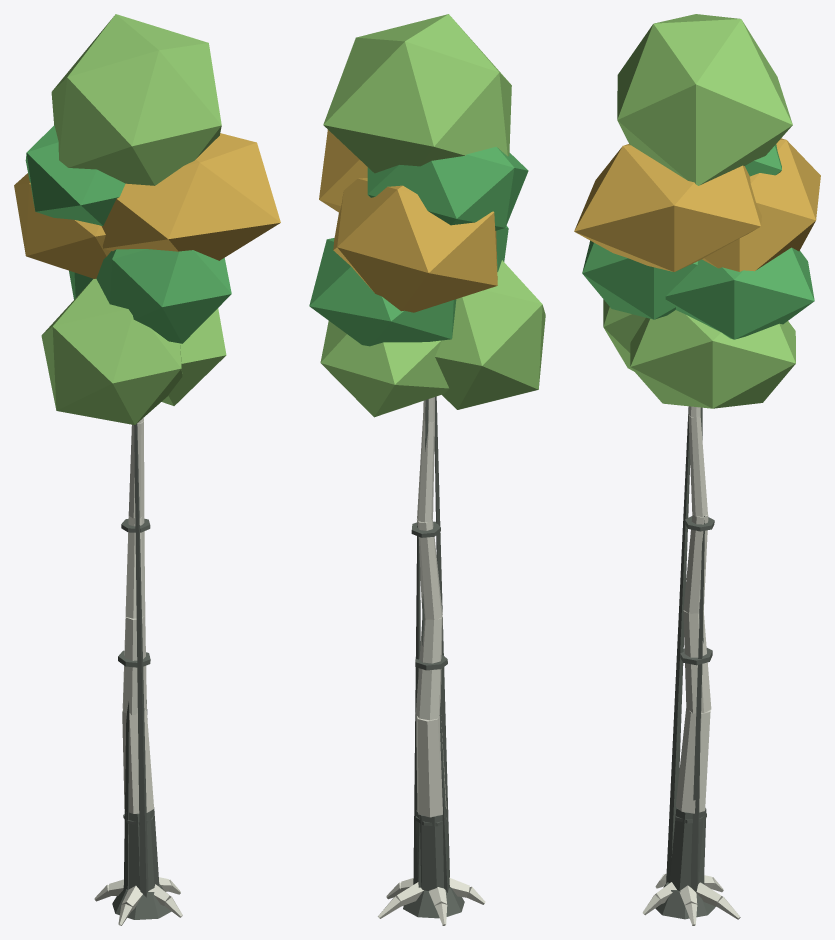
The model's file is tree_birch_d.glb.
3 renders of one model, left to right at view 1: azimuth 30°, elevation 25°; view 2: azimuth 150°, elevation 25°; view 3: azimuth 270°, elevation 25°, orthographic.
Parts seen in each view (by area): view 1: TreeBirchD; view 2: TreeBirchD; view 3: TreeBirchD.
Part boxes in pixels (bbox=[...]): TreeBirchD: bbox=[14, 14, 280, 925]; TreeBirchD: bbox=[309, 14, 545, 925]; TreeBirchD: bbox=[574, 14, 820, 925].
Size of the model in its own units: 4.52 by 18.18 by 4.58.
